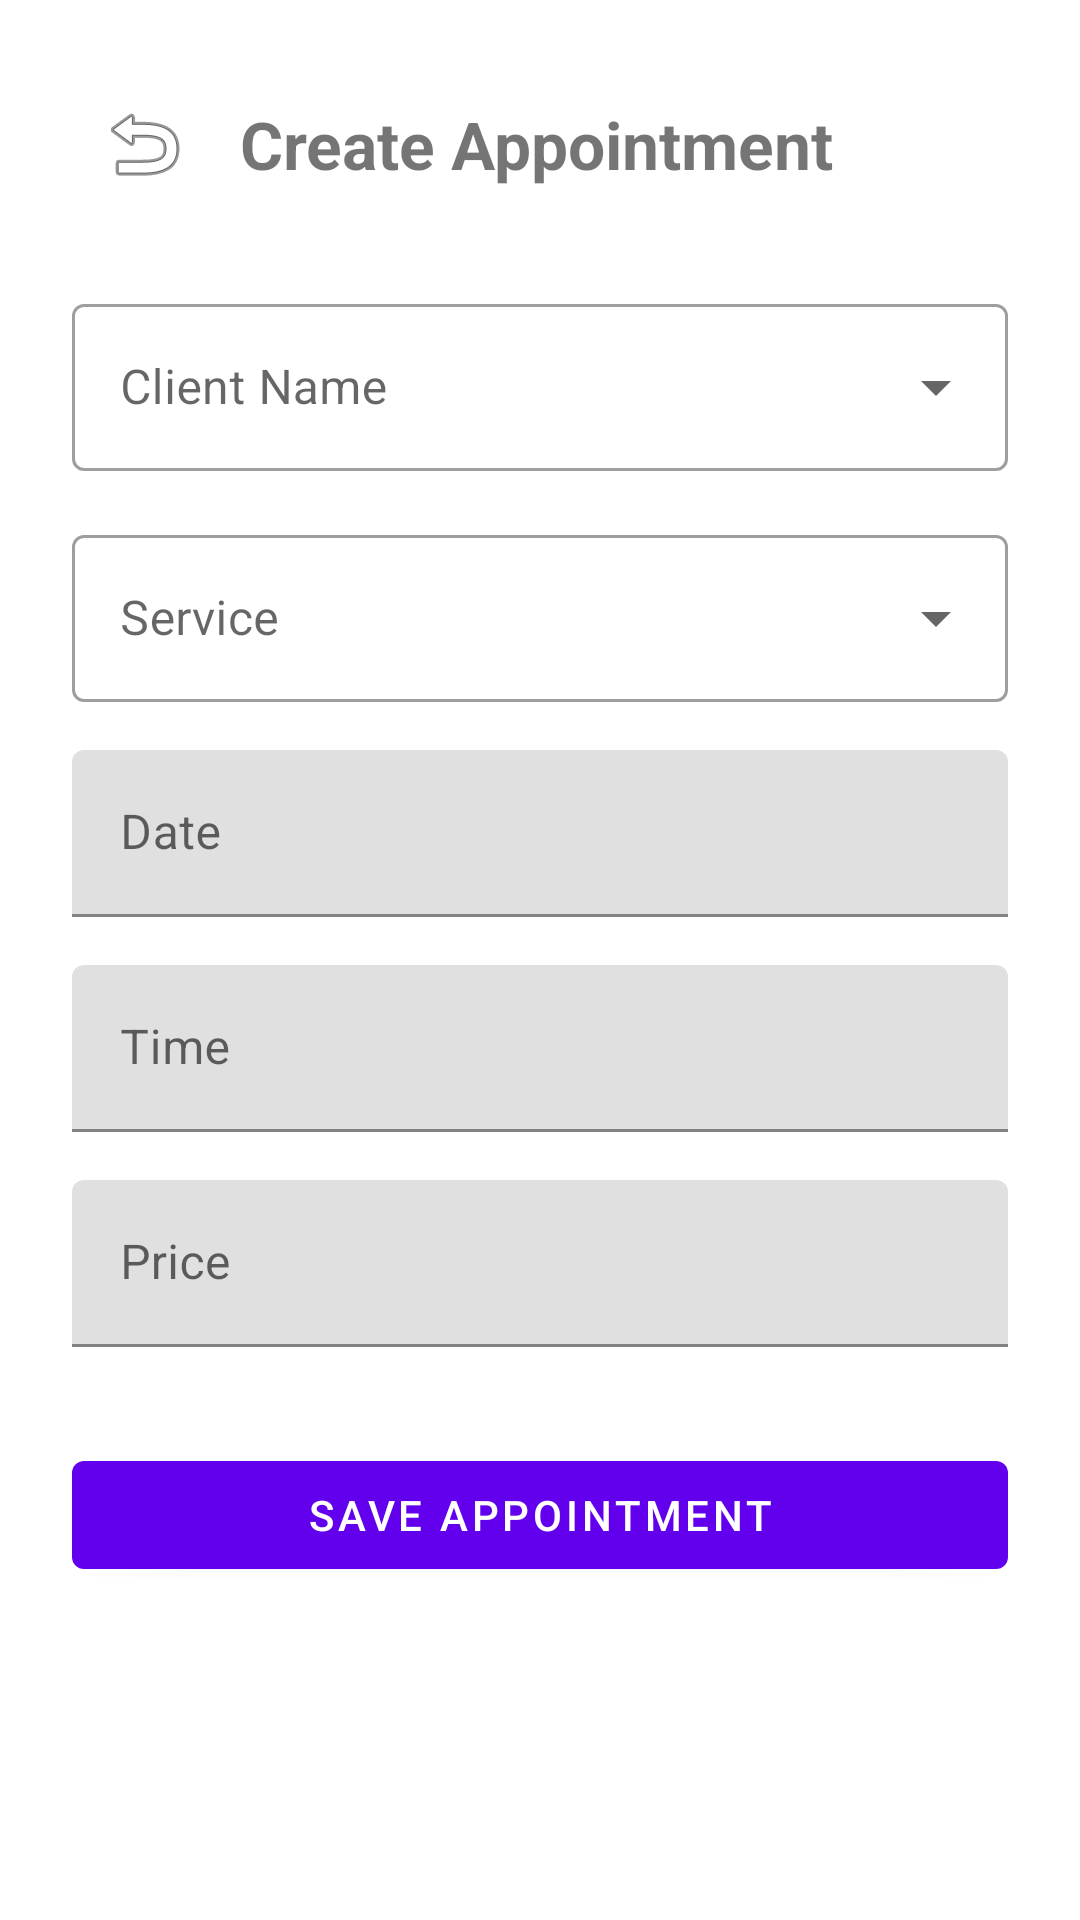

Icons on this 1080 x 1920 Android screen, each with the point to tap as point (x, y):
Back: point (145, 144)
